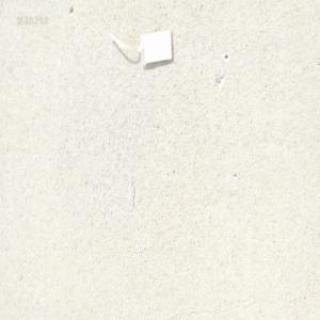LuggageTagtrack_idkeyframe: (105, 24, 175, 66)
